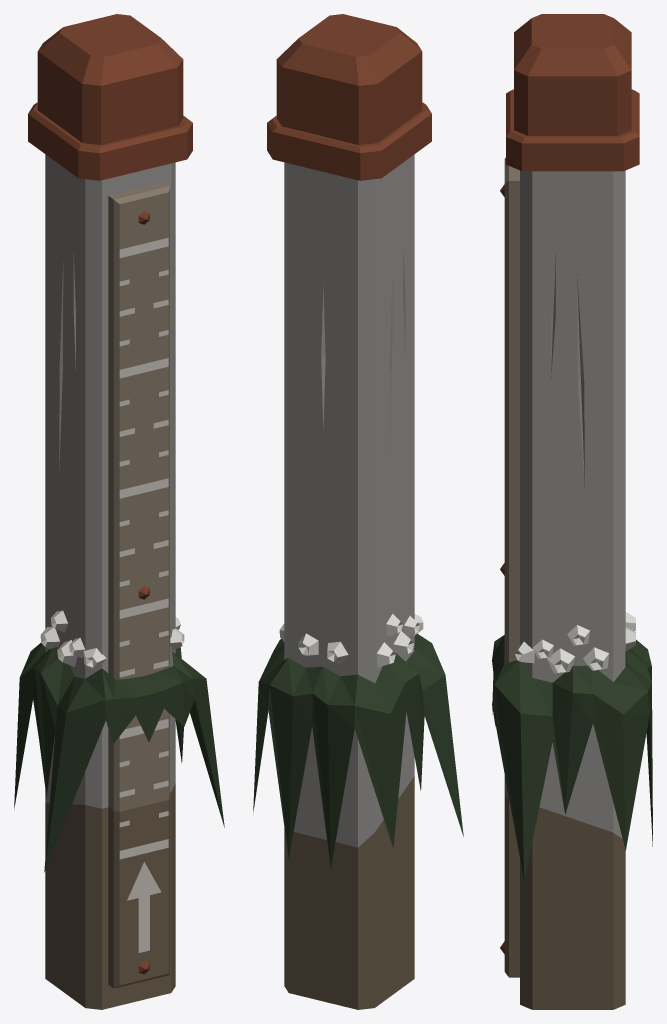
The model's file is tide-post-11a866.glb.
The picture shows the model from 3 angles, left to right: view 1: azimuth 30°, elevation 25°; view 2: azimuth 150°, elevation 25°; view 3: azimuth 270°, elevation 25°; orthographic projection.
Visible parts, largest first — view 1: tide-post-body, tide-band; view 2: tide-post-body, tide-band; view 3: tide-post-body, tide-band.
Part boxes in pixels (x1,y1,x2,y2): tide-post-body: (28,14,192,1009); tide-band: (14,610,224,872); tide-post-body: (267,14,431,1009); tide-band: (253,613,463,868); tide-post-body: (500,14,639,1009); tide-band: (492,612,652,880).
Size of the model in its own units: 0.4791 by 2.4 by 0.3661.
